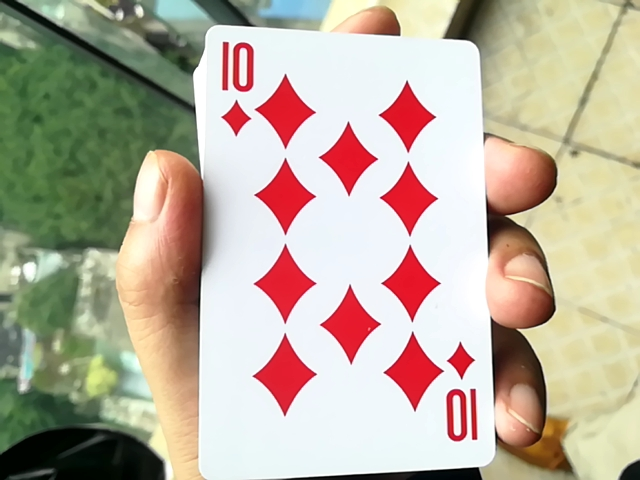fk 10: (182, 14, 503, 470)
